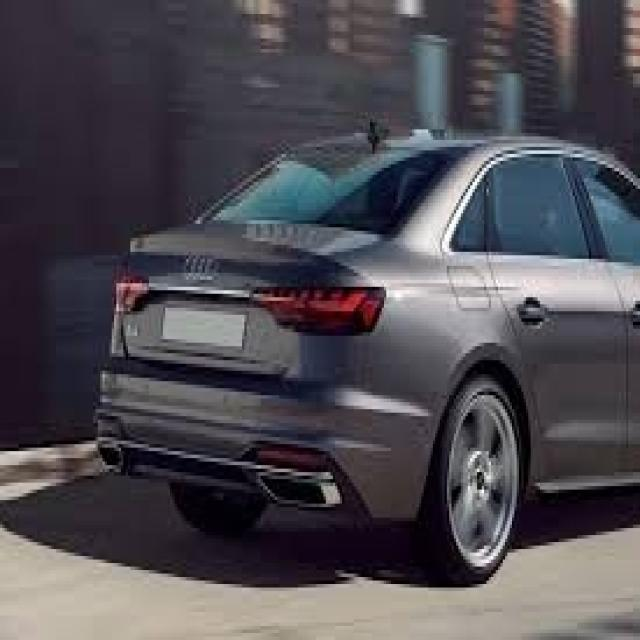black: (102, 109, 640, 508)
